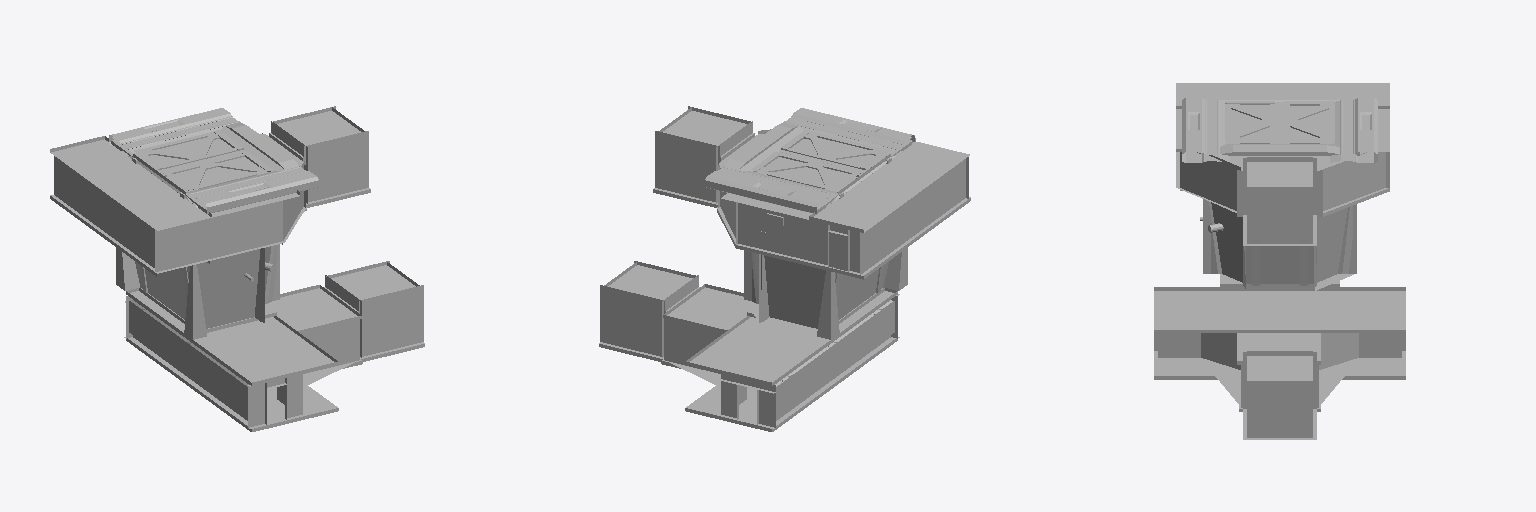
Rendered from HC_room2_nuke.obj.
3 views of the same model, side by side, from view 1: azimuth 30°, elevation 25°; view 2: azimuth 150°, elevation 25°; view 3: azimuth 270°, elevation 25° (orthographic).
Visible parts, largest first — view 1: room2nuke_opt; view 2: room2nuke_opt; view 3: room2nuke_opt.
Boxes of the visible parts, <box> form: room2nuke_opt: <box>50,106,424,431</box>; room2nuke_opt: <box>599,106,970,431</box>; room2nuke_opt: <box>1154,83,1405,439</box>.
Bounding box in the file's own units: 28.32 × 20.48 × 20.48.